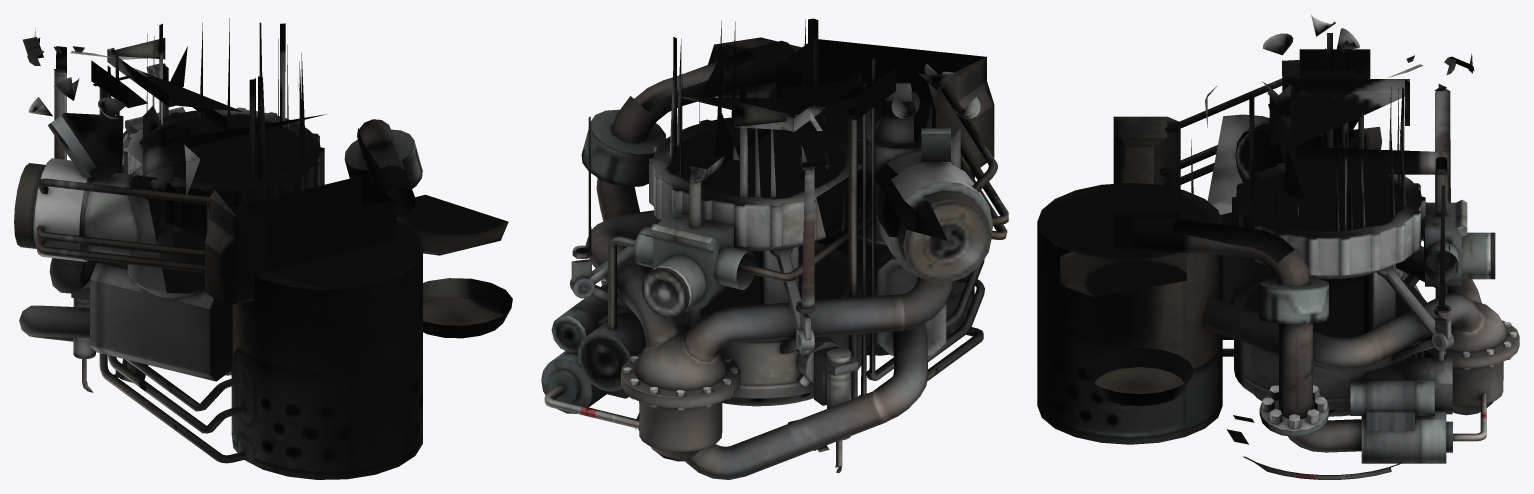
File: Pistons.fbx
3 views of the same model, side by side, from view 1: azimuth 30°, elevation 25°; view 2: azimuth 150°, elevation 25°; view 3: azimuth 270°, elevation 25° (orthographic). The views are drawn at different scales.
Parts seen in each view (by area): view 1: Rocket_Engine.002; view 2: Rocket_Engine.002; view 3: Rocket_Engine.002.
Boxes of the visible parts, x1,y1,x2,y2 form: Rocket_Engine.002: (14, 18, 512, 479); Rocket_Engine.002: (541, 18, 1008, 479); Rocket_Engine.002: (1037, 15, 1519, 479).
Bounding box in the file's own units: 131 × 116 × 144.
